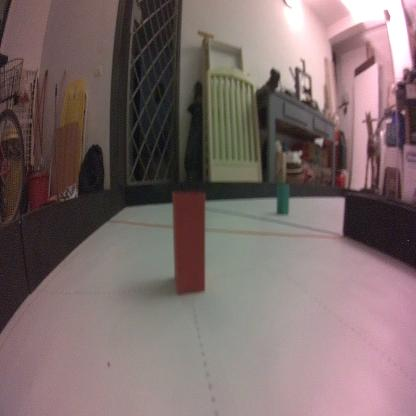green: (276, 181, 289, 215)
red: (170, 183, 207, 295)
